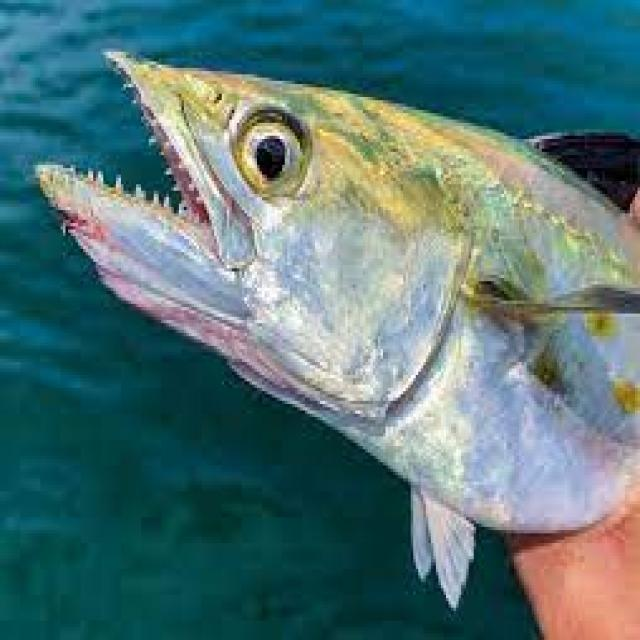Spanish Mackerel: (30, 45, 640, 618)
